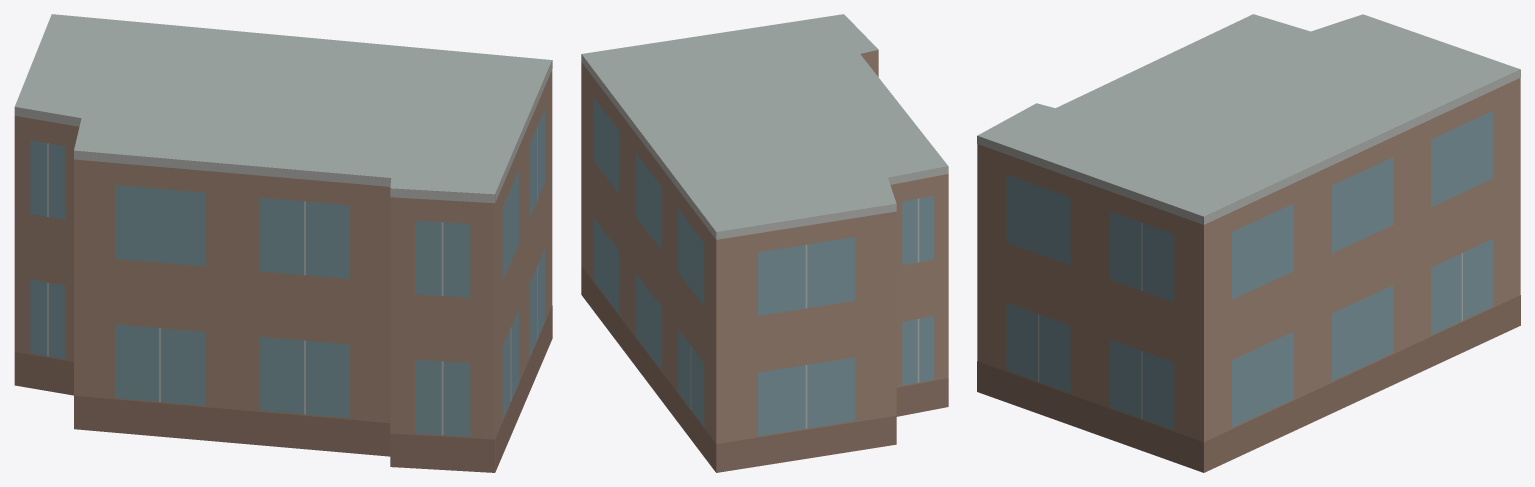
File: survey-upis-32983166.glb
3 views of the same model, side by side, from view 1: azimuth 30°, elevation 25°; view 2: azimuth 150°, elevation 25°; view 3: azimuth 270°, elevation 25° (orthographic). The views are drawn at different scales.
Parts seen in each view (by area): view 1: survey-upis-32983166.tmp; view 2: survey-upis-32983166.tmp; view 3: survey-upis-32983166.tmp.
Boxes of the visible parts, left/top/right/bottom form: survey-upis-32983166.tmp: left=14, top=14, right=552, bottom=472; survey-upis-32983166.tmp: left=581, top=14, right=948, bottom=472; survey-upis-32983166.tmp: left=977, top=14, right=1520, bottom=472.
Size of the model in its own units: 12.9 by 7.6 by 14.62.
